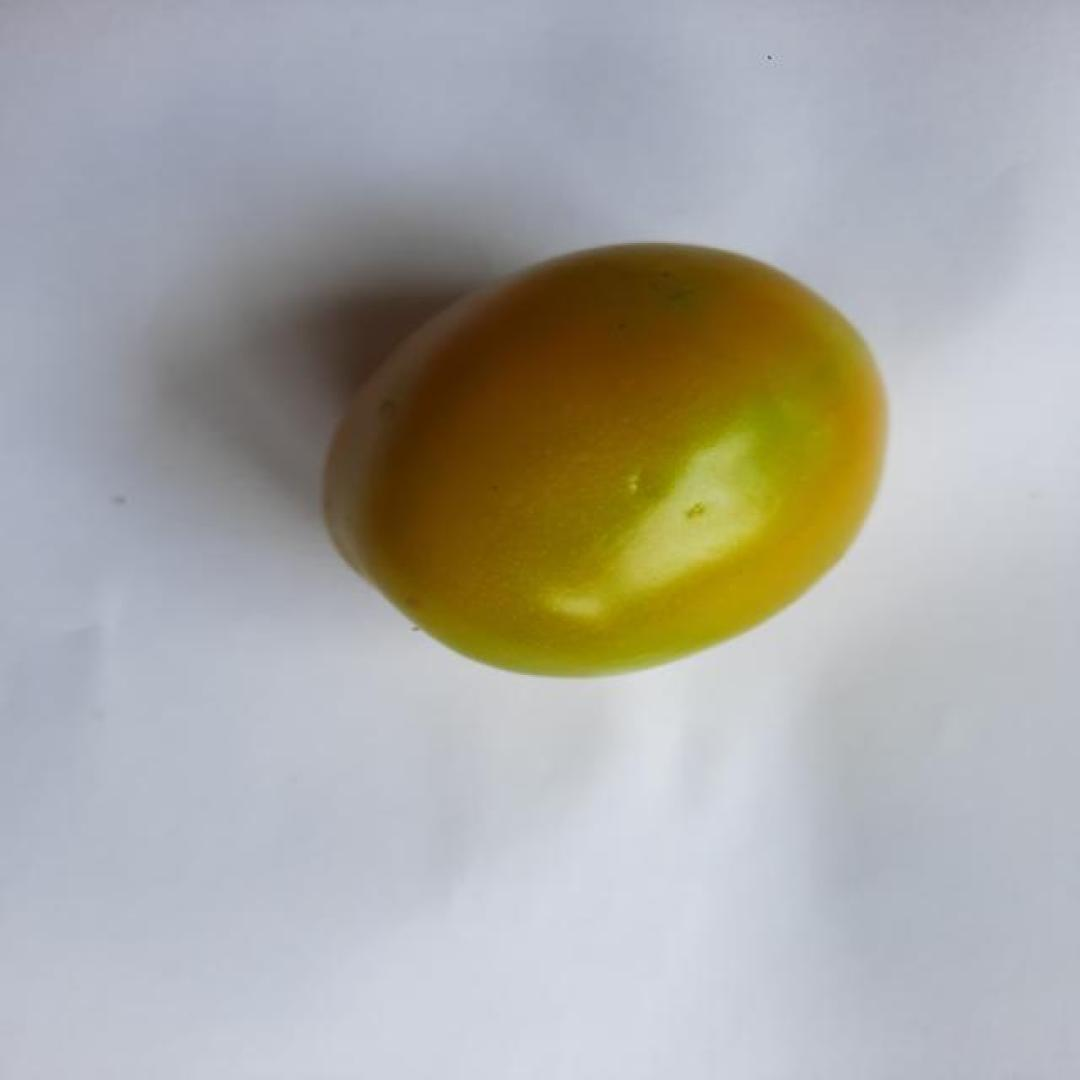setengah_matang: (317, 242, 901, 684)
